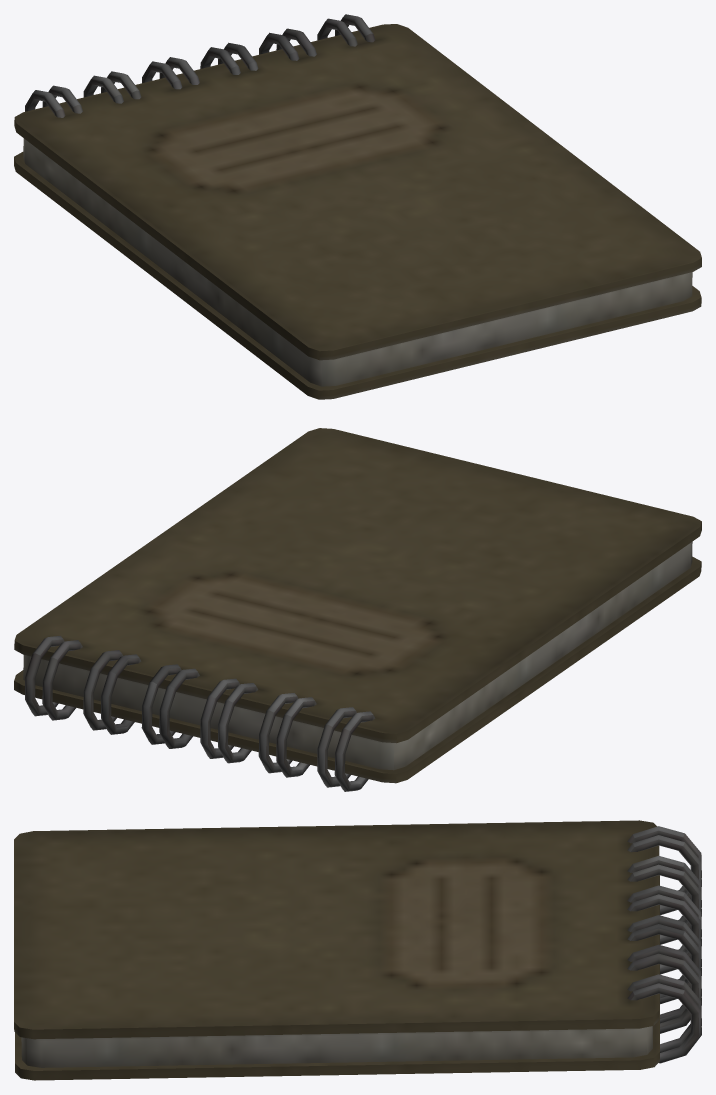
Rendered from notebook_1.obj.
The picture shows the model from 3 angles, top to bottom: view 1: azimuth 30°, elevation 25°; view 2: azimuth 150°, elevation 25°; view 3: azimuth 270°, elevation 25°; orthographic projection. The views are drawn at different scales.
Parts seen in each view (by area): view 1: notebook_1; view 2: notebook_1; view 3: notebook_1.
Boxes of the visible parts, x1,y1,x2,y2 form: notebook_1: [14, 14, 701, 399]; notebook_1: [14, 428, 701, 791]; notebook_1: [14, 820, 701, 1080].
Bounding box in the file's own units: 0.1474 × 0.0278 × 0.2158.
